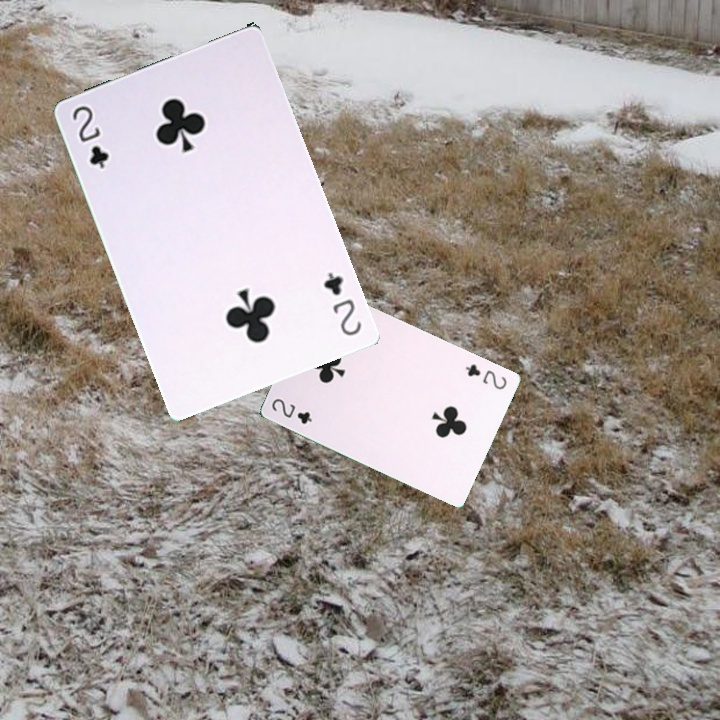2c: (319, 268, 364, 339), (68, 101, 112, 171), (267, 394, 314, 427), (461, 360, 509, 392)
